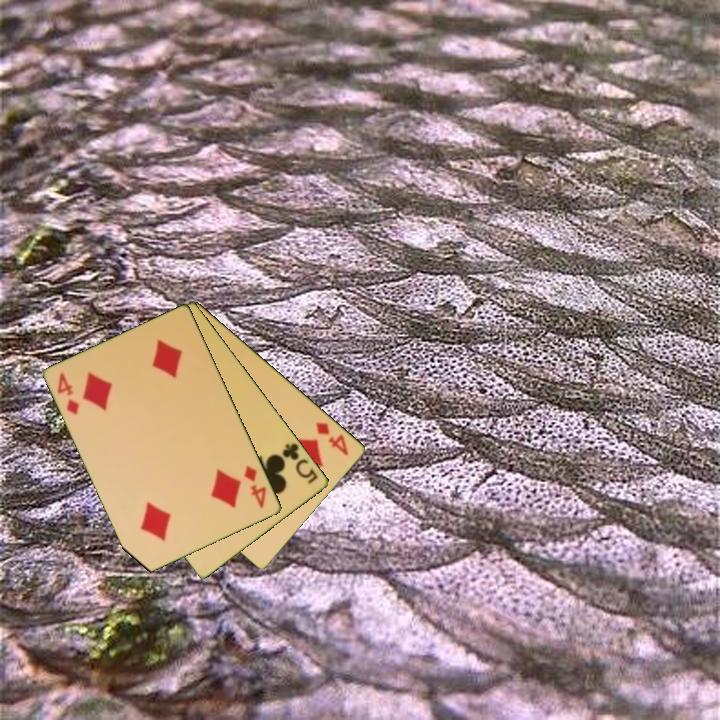4d: (312, 418, 352, 459), (241, 462, 270, 511), (54, 369, 83, 418)
5c: (279, 439, 321, 487)
